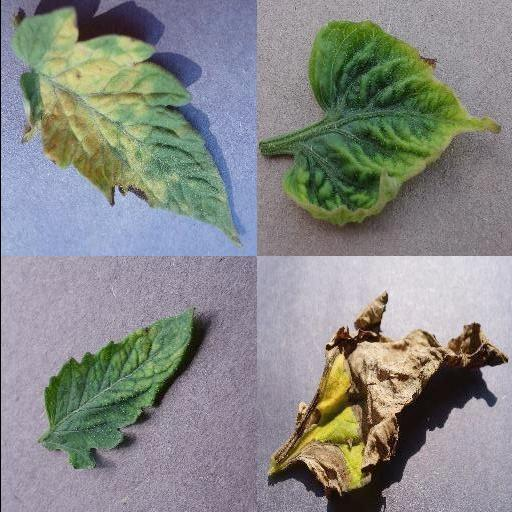Late Blight: (265, 292, 512, 496)
Leaf Mold: (11, 9, 243, 246)
Mosaic Virus: (41, 306, 195, 472)
Yellow Leaf Curl Virus: (281, 18, 501, 230)
